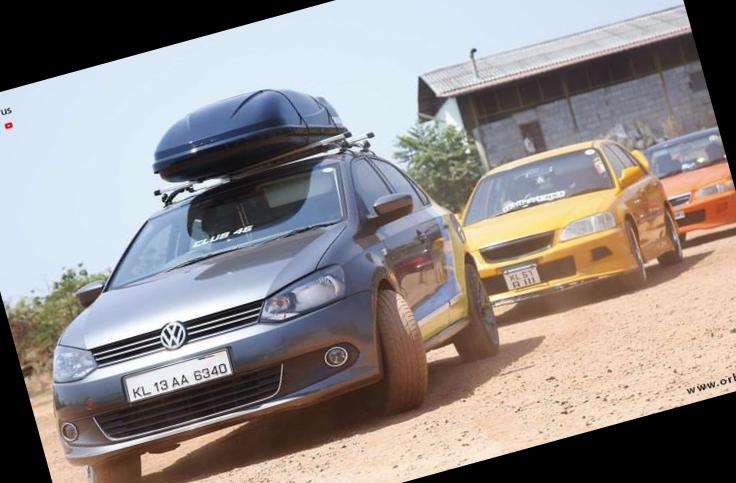plate: (115, 335, 243, 413)
